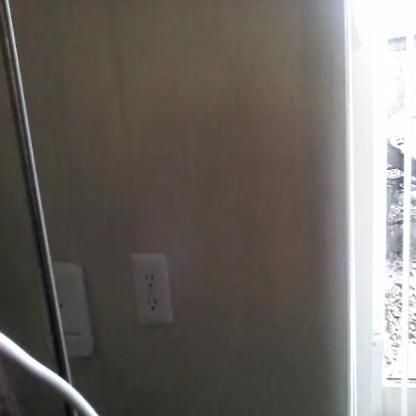OUTLET: (129, 252, 174, 328)
